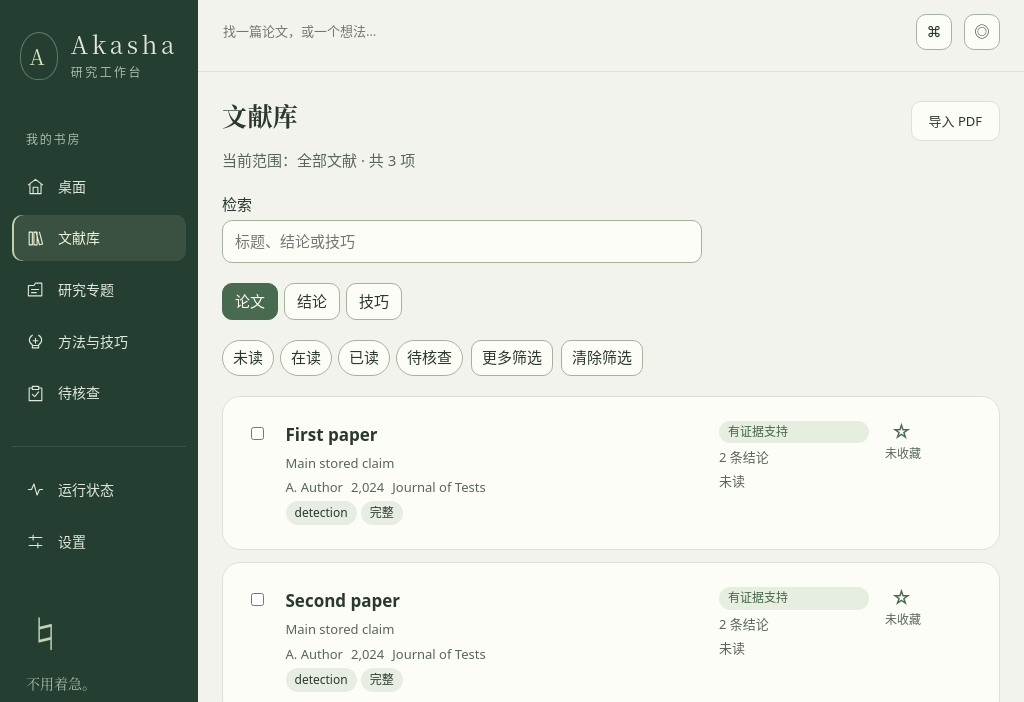
Test: UX-021 returning to the library keeps filters, scroll and selection › keeps a cross-page selection and its count in the tray
Expected: the link "First paper" is shown, x1=286 y1=422 x2=378 y2=446
Click the checkbox named "选择 First paper" at (258, 433), box x1=251 y1=426 x2=264 y2=440
(page scrolled)
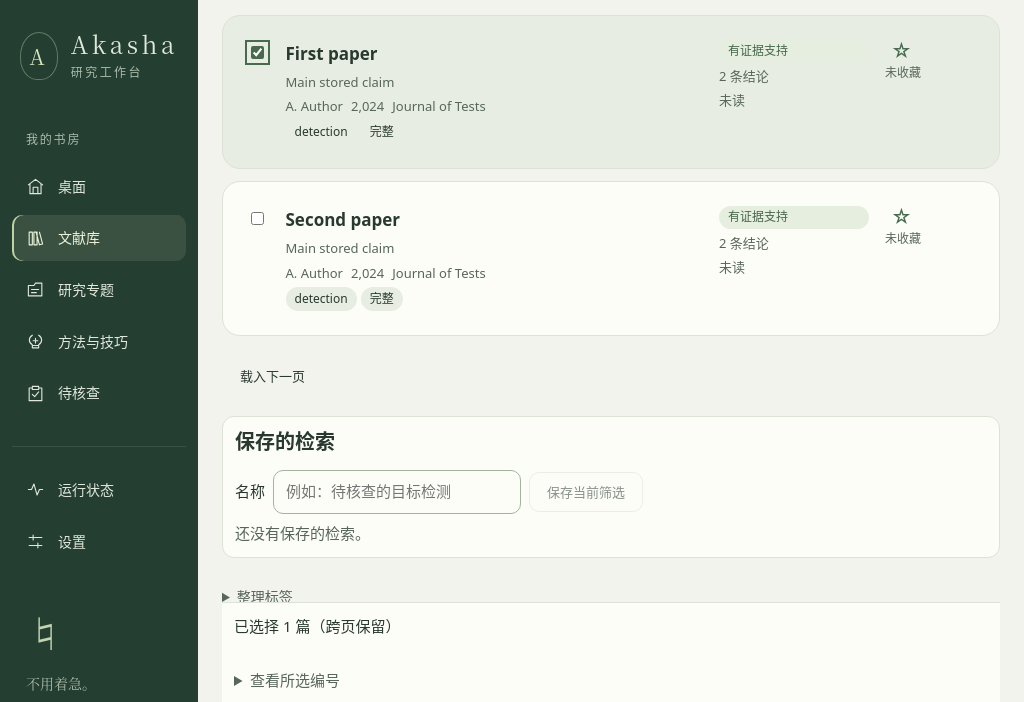
Expected: the text with test id "selection-count" shows "已选择 1 篇", x1=234 y1=615 x2=400 y2=635
# Page 2 keeps the tray (selection is not reset by pagination).
Click the button "载入下一页" at (272, 376), box x1=222 y1=356 x2=323 y2=396
(page scrolled)
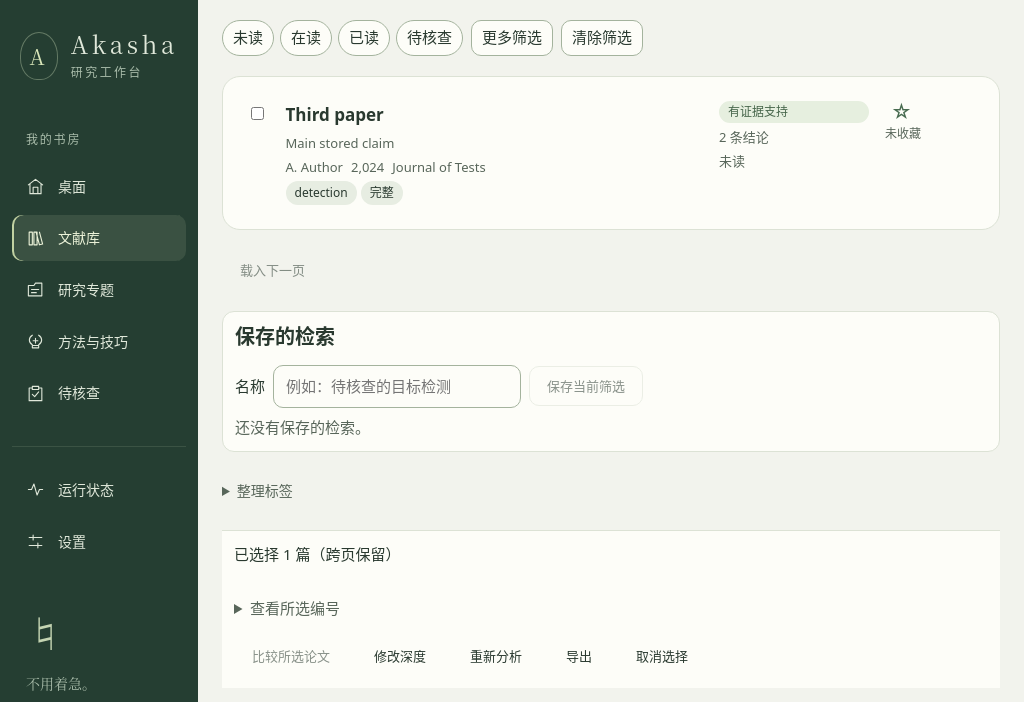
Expected: the link "Third paper" is shown, x1=286 y1=102 x2=384 y2=126
Click the checkbox named "选择 Third paper" at (258, 113), box x1=251 y1=106 x2=264 y2=120
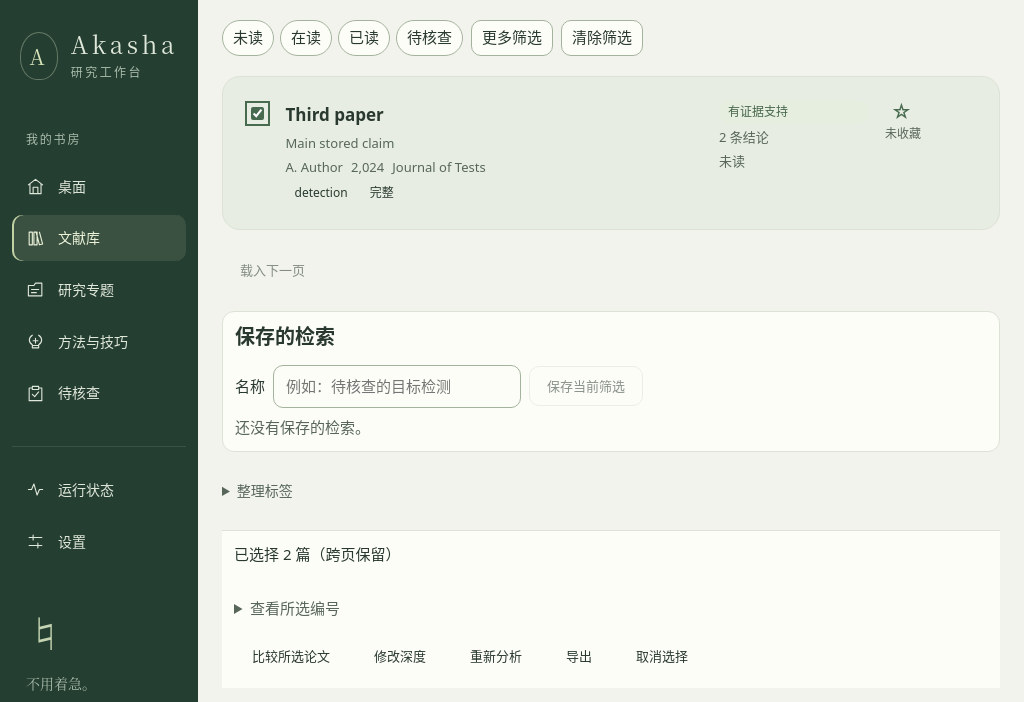
Expected: the text with test id "selection-count" shows "已选择 2 篇", x1=234 y1=544 x2=400 y2=564
